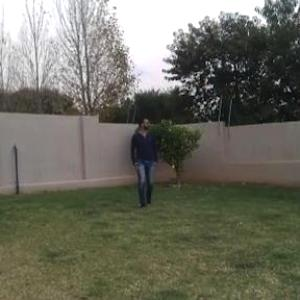follow: (134, 115, 158, 212)
